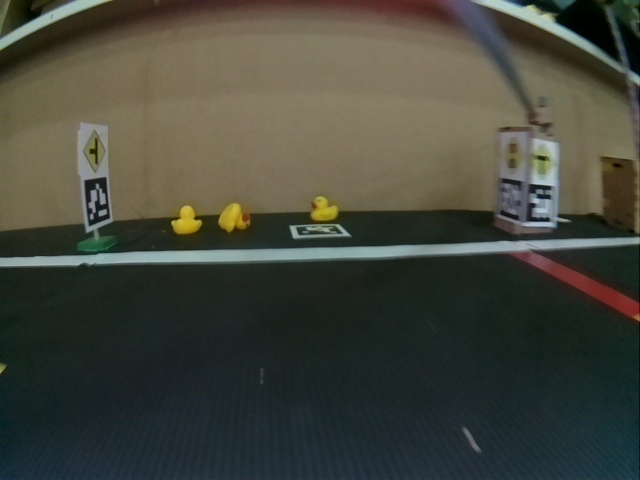Duckie: (220, 204, 249, 231), (171, 208, 202, 233), (312, 196, 339, 221)
Intersection sign: (83, 128, 107, 173), (533, 141, 558, 180)
QR code: (83, 177, 113, 228), (498, 180, 525, 223), (526, 186, 555, 226), (290, 223, 351, 239)
Signal sign: (501, 132, 526, 175)
